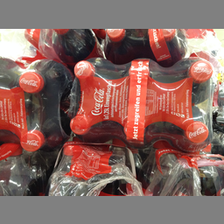soda: (68, 55, 213, 148), (1, 56, 66, 154)
